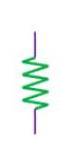resistor: (19, 48, 52, 113)
